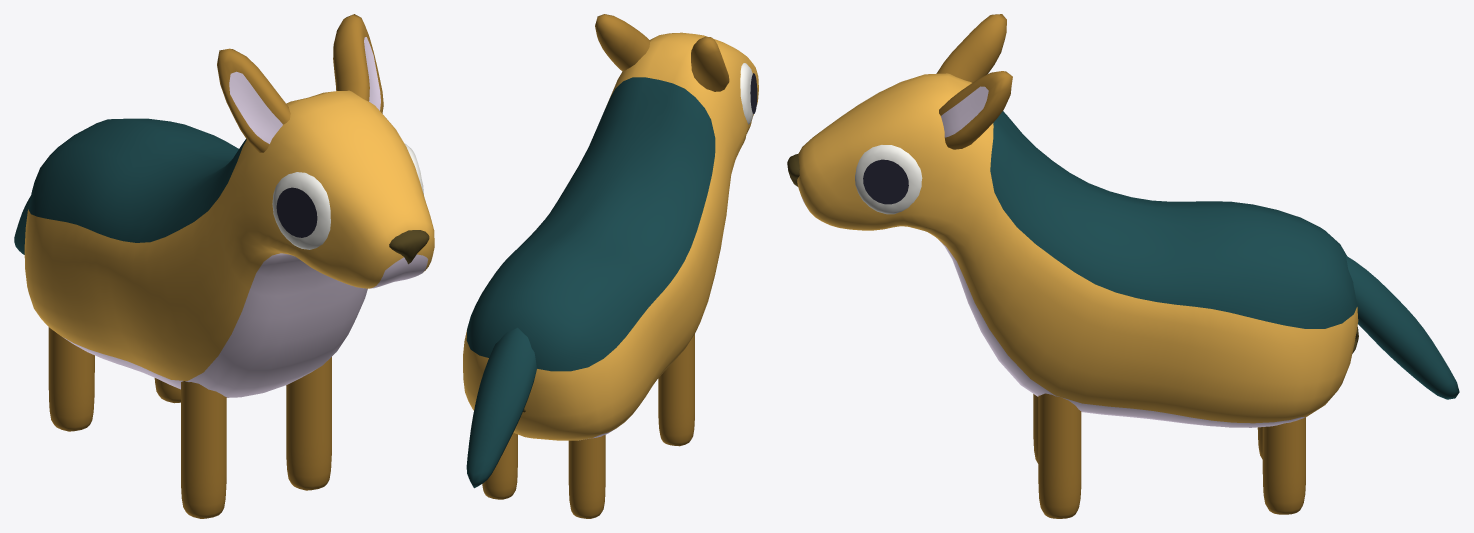
The model's file is Jackal.glb.
3 views of the same model, side by side, from view 1: azimuth 30°, elevation 25°; view 2: azimuth 150°, elevation 25°; view 3: azimuth 270°, elevation 25° (orthographic). The views are drawn at different scales.
Visible parts, largest first — view 1: Jackal; view 2: Jackal; view 3: Jackal.
Boxes of the visible parts, bbox=[...] form: Jackal: bbox=[14, 14, 434, 518]; Jackal: bbox=[463, 14, 758, 518]; Jackal: bbox=[787, 14, 1459, 518].
Size of the model in its own units: 0.9743 by 2.24 by 3.05.
1 material, 1 textured.
